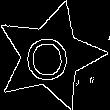O_N: (26, 30, 74, 82)
